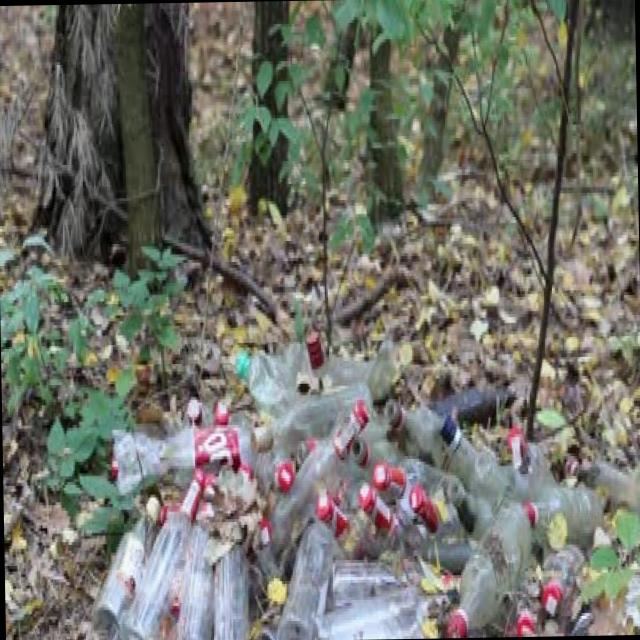garbage: (64, 309, 617, 640)
